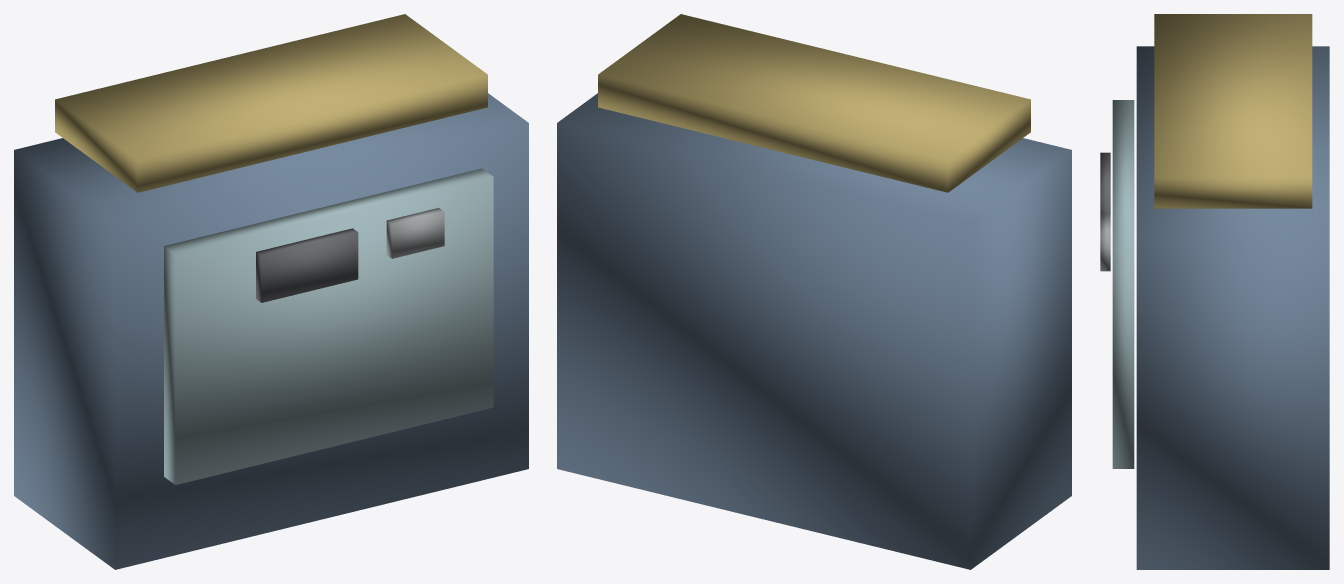
The model's file is lottery_counter_display__weathered.glb.
The picture shows the model from 3 angles, left to right: view 1: azimuth 30°, elevation 25°; view 2: azimuth 150°, elevation 25°; view 3: azimuth 270°, elevation 25°; orthographic projection. The views are drawn at different scales.
Visible parts, largest first — view 1: world; view 2: world; view 3: world.
Boxes of the visible parts, x1,y1,x2,y2 form: world: (14, 14, 528, 569); world: (557, 14, 1071, 569); world: (1100, 14, 1329, 569).
Size of the model in its own units: 0.52 by 0.4752 by 0.2615.
